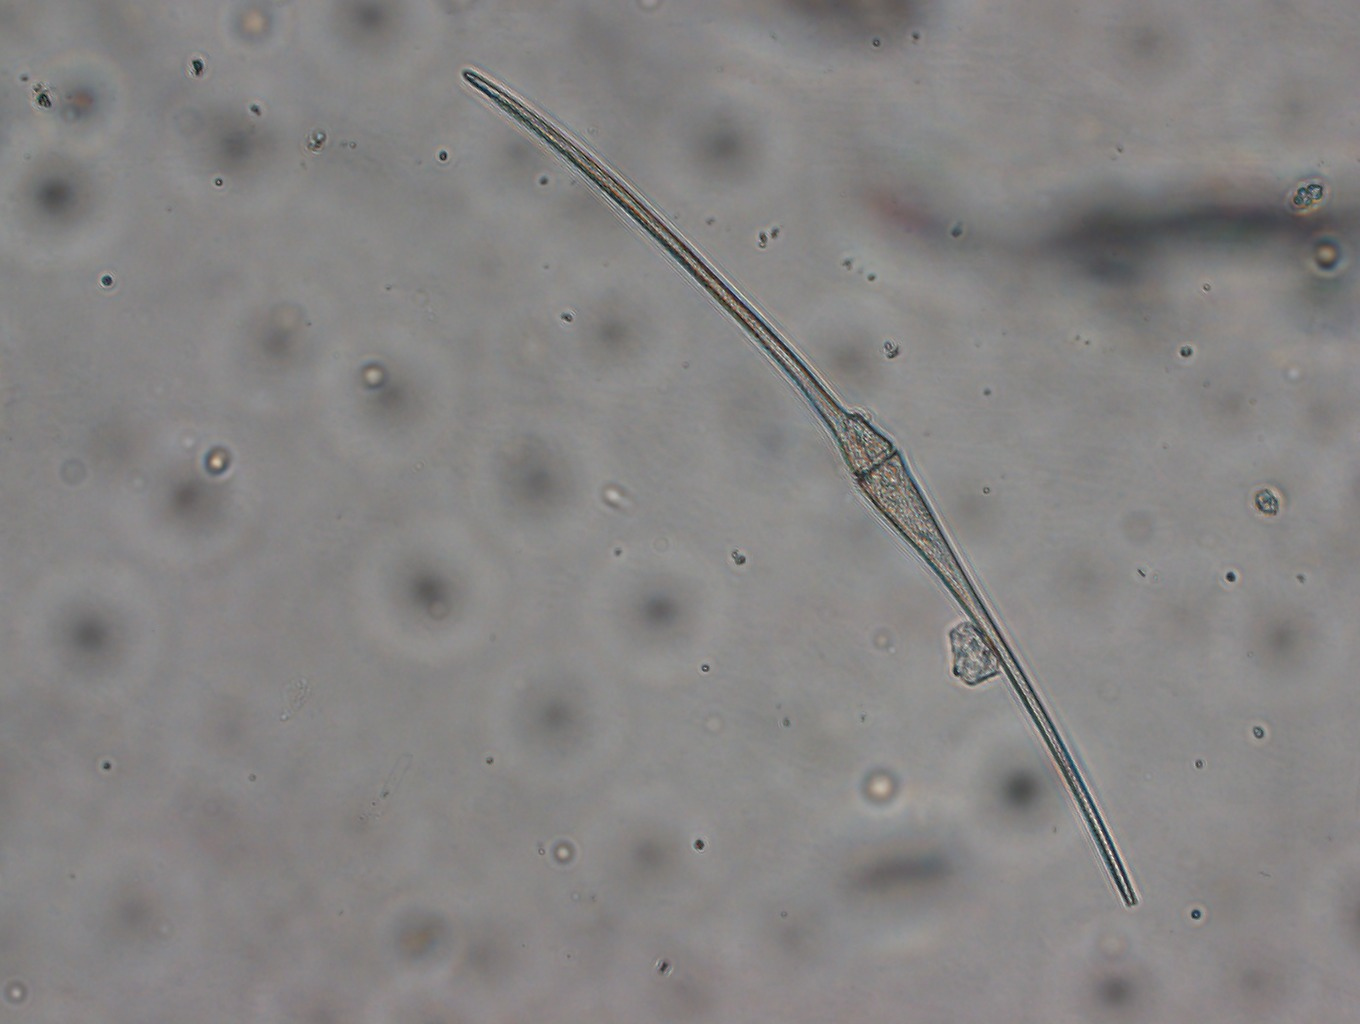ceratium fusus: (459, 63, 1139, 909)
